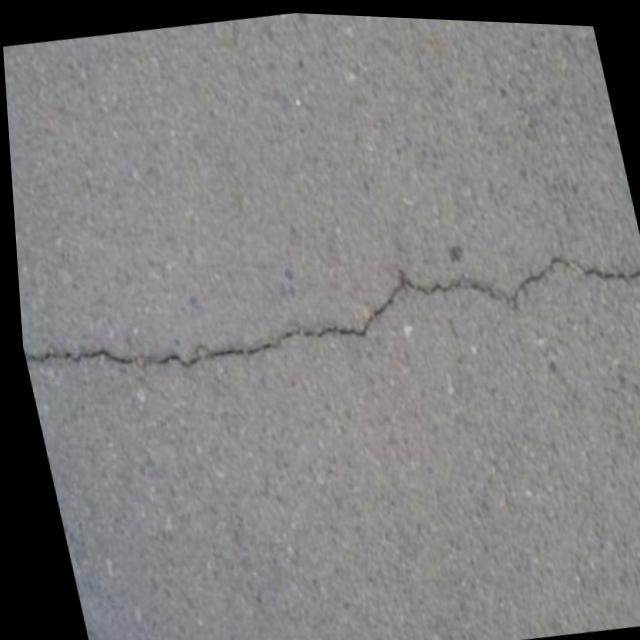Crack: (10, 196, 640, 424)
